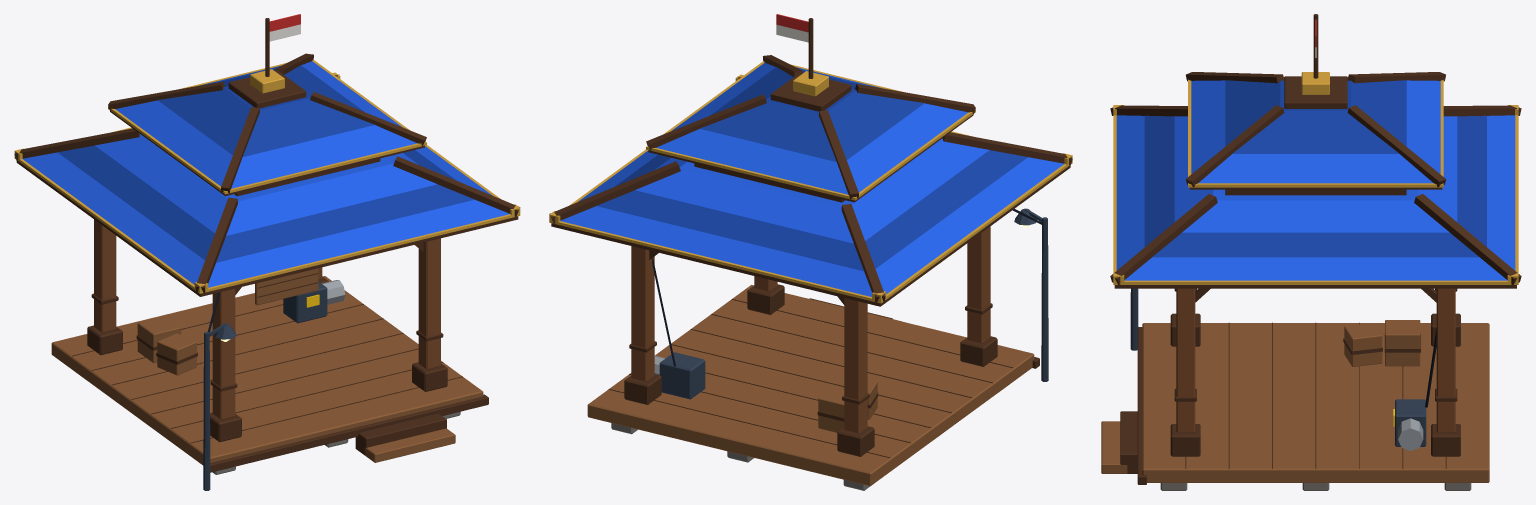
The model's file is rumah_kincir_v001.glb.
3 views of the same model, side by side, from view 1: azimuth 30°, elevation 25°; view 2: azimuth 150°, elevation 25°; view 3: azimuth 270°, elevation 25° (orthographic). The views are drawn at different scales.
Parts seen in each view (by area): view 1: Rumah_Kincir, Papan_Nama; view 2: Rumah_Kincir; view 3: Rumah_Kincir.
Part boxes in pixels (x1,y1,x2,y2): Rumah_Kincir: [14, 14, 520, 490]; Papan_Nama: [255, 268, 318, 305]; Rumah_Kincir: [549, 14, 1072, 490]; Rumah_Kincir: [1101, 14, 1521, 490].
Size of the model in its own units: 5.21 by 5.75 by 5.33.
